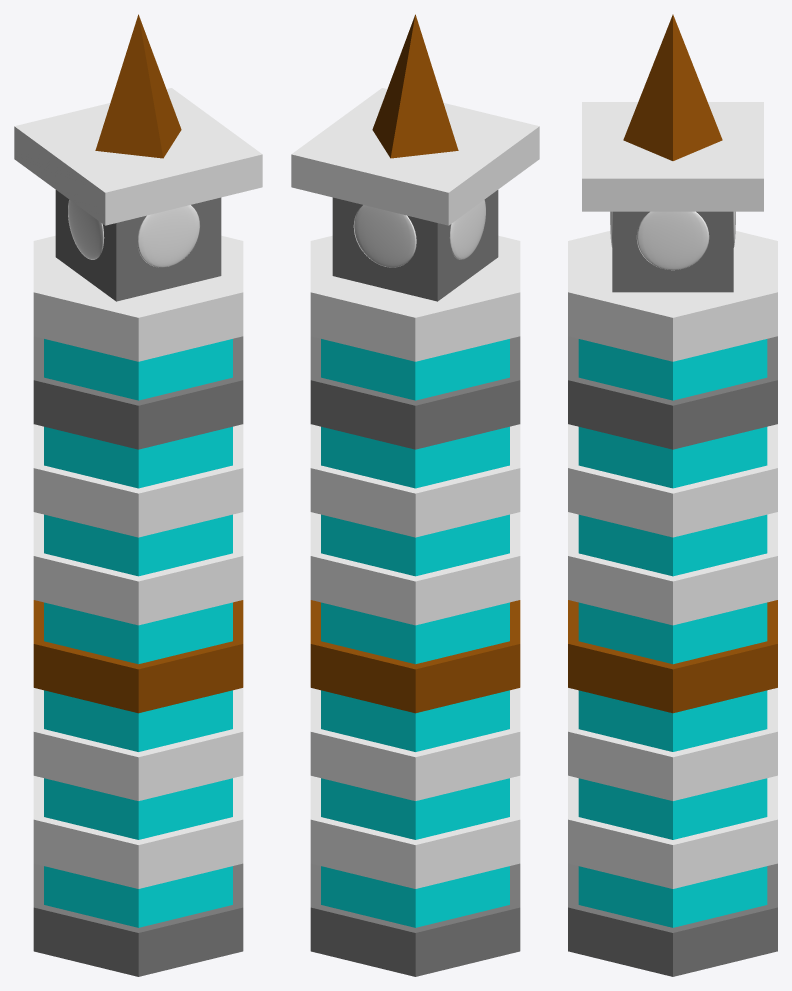
File: clockTower02.glb
3 renders of one model, left to right at view 1: azimuth 30°, elevation 25°; view 2: azimuth 150°, elevation 25°; view 3: azimuth 270°, elevation 25°, orthographic.
Parts seen in each view (by area): view 1: pCube2, pCylinder3.003, pCylinder3.001, pCylinder3.002, pCylinder1.003, pCylinder1.002, pCylinder1, pCylinder3, pCylinder1.001, pCube1, pCylinder4.001, pCylinder4.002 (+8 smaller); view 2: pCube2, pCylinder3.003, pCylinder3.001, pCylinder3.002, pCylinder1.003, pCylinder1.002, pCylinder1, pCylinder3, pCylinder1.001, pCube1, pCylinder4.001, pCylinder4.002 (+8 smaller); view 3: pCylinder3.003, pCube2, pCylinder1.002, pCylinder1.003, pCylinder1.001, pCylinder3.002, pCylinder1, pCylinder3, pCylinder3.001, pCylinder2, pCylinder4, pCylinder2.001 (+7 smaller).
Boxes of the visible parts, x1=… form: pCube2: x1=14, y1=88, x2=262, y2=225; pCylinder3.003: x1=33, y1=235, x2=243, y2=361; pCylinder3.001: x1=33, y1=600, x2=243, y2=713; pCylinder3.002: x1=33, y1=424, x2=243, y2=537; pCylinder1.003: x1=33, y1=336, x2=243, y2=449; pCylinder1.002: x1=33, y1=512, x2=243, y2=625; pCylinder1: x1=33, y1=863, x2=243, y2=976; pCylinder3: x1=33, y1=776, x2=243, y2=888; pCylinder1.001: x1=33, y1=688, x2=243, y2=800; pCube1: x1=55, y1=190, x2=221, y2=301; pCylinder4.001: x1=44, y1=602, x2=232, y2=664; pCylinder4.002: x1=44, y1=426, x2=232, y2=488; pCube2: x1=291, y1=88, x2=539, y2=225; pCylinder3.003: x1=310, y1=235, x2=520, y2=361; pCylinder3.001: x1=310, y1=600, x2=520, y2=713; pCylinder3.002: x1=310, y1=424, x2=520, y2=537; pCylinder1.003: x1=310, y1=336, x2=520, y2=449; pCylinder1.002: x1=310, y1=512, x2=520, y2=625; pCylinder1: x1=310, y1=863, x2=520, y2=976; pCylinder3: x1=310, y1=776, x2=520, y2=888; pCylinder1.001: x1=310, y1=688, x2=520, y2=800; pCube1: x1=332, y1=190, x2=498, y2=301; pCylinder4.001: x1=321, y1=602, x2=509, y2=664; pCylinder4.002: x1=321, y1=426, x2=509, y2=488; pCylinder3.003: x1=568, y1=231, x2=777, y2=361; pCube2: x1=582, y1=102, x2=763, y2=211; pCylinder1.002: x1=568, y1=512, x2=777, y2=625; pCylinder1.003: x1=568, y1=336, x2=777, y2=449; pCylinder1.001: x1=568, y1=688, x2=777, y2=800; pCylinder3.002: x1=568, y1=424, x2=777, y2=537; pCylinder1: x1=568, y1=863, x2=777, y2=976; pCylinder3: x1=568, y1=775, x2=777, y2=888; pCylinder3.001: x1=568, y1=600, x2=777, y2=713; pCylinder2: x1=578, y1=866, x2=767, y2=927; pCylinder4: x1=578, y1=778, x2=767, y2=839; pCylinder2.001: x1=578, y1=690, x2=767, y2=751.
Bounding box in the file's own units: 8 × 33.2 × 6.93.
